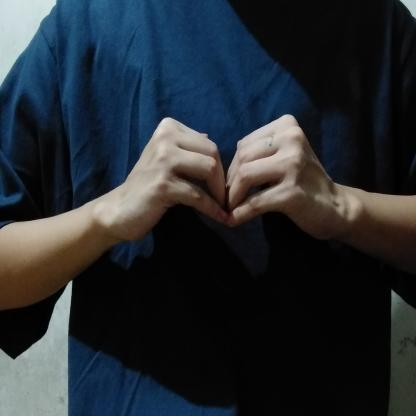how: (94, 95, 355, 264)
